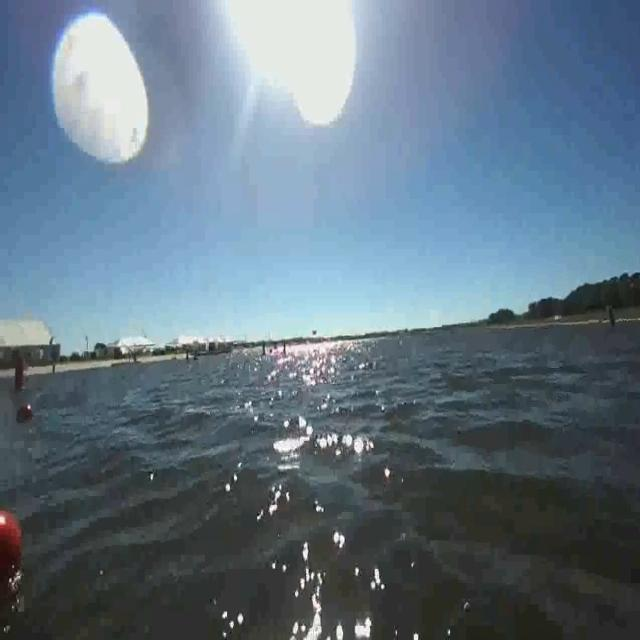red-buoy: (0, 511, 25, 578), (19, 406, 33, 421)
